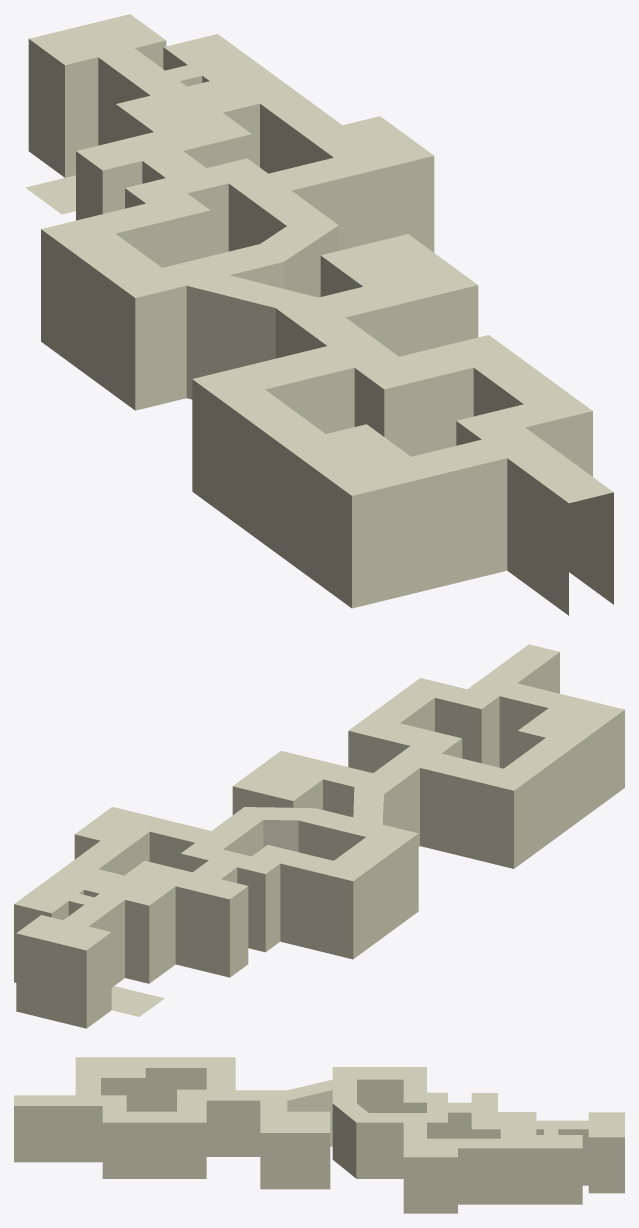
Rendered from FloorPlan.dae.
3 views of the same model, one above another, from view 1: azimuth 30°, elevation 25°; view 2: azimuth 150°, elevation 25°; view 3: azimuth 270°, elevation 25° (orthographic). The views are drawn at different scales.
Parts seen in each view (by area): view 1: SketchUp (×4); view 2: SketchUp (×4); view 3: SketchUp (×4).
Part boxes in pixels (bbox=[...]): SketchUp (×4): bbox=[25, 14, 613, 615]; SketchUp (×4): bbox=[14, 644, 624, 1028]; SketchUp (×4): bbox=[14, 1057, 624, 1213].
Size of the model in its own units: 393 by 1013 by 103.
